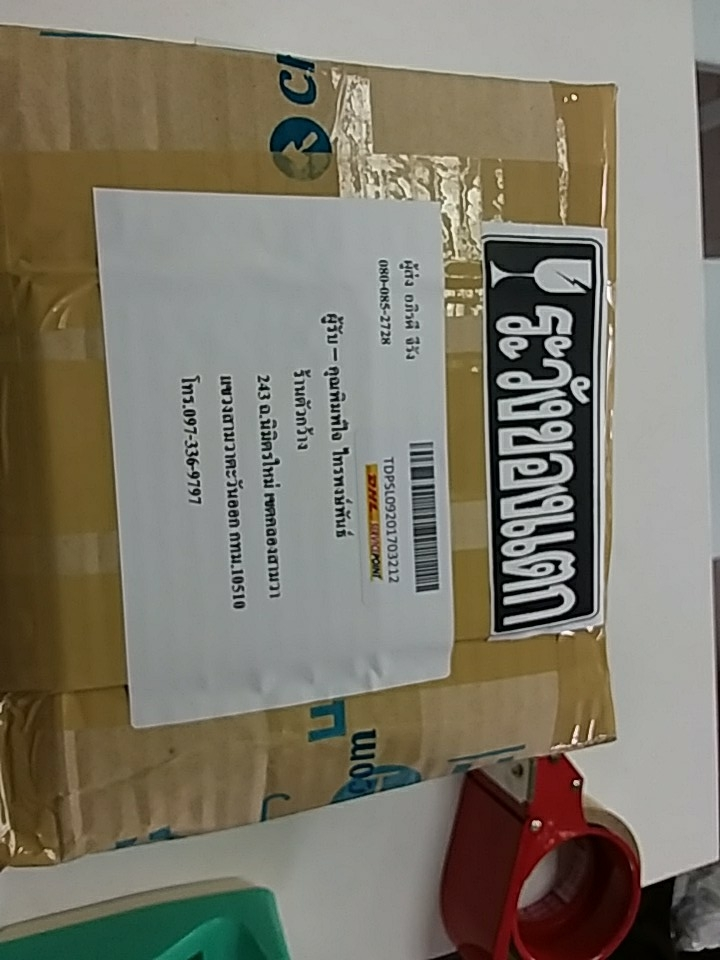ba: (353, 428, 452, 625)
txt: (172, 307, 358, 642)
